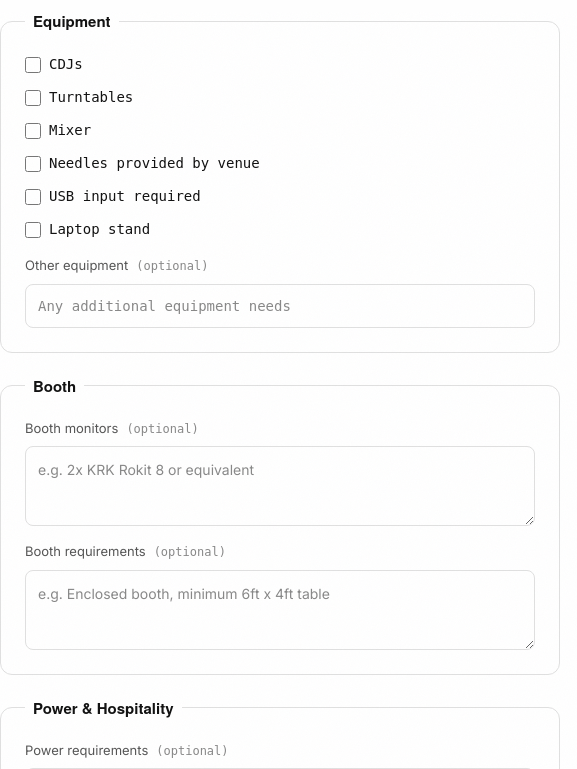
Scenario: RiderForm › shows CDJ model input when CDJs checkbox is checked
The width and height of the screenshot is (577, 769).
Expected: the field labelled "CDJ model" is not shown
Note: Check CDJs
Click the checkbox labelled "CDJs" at [33, 64], box left=25, top=56, right=41, bottom=72
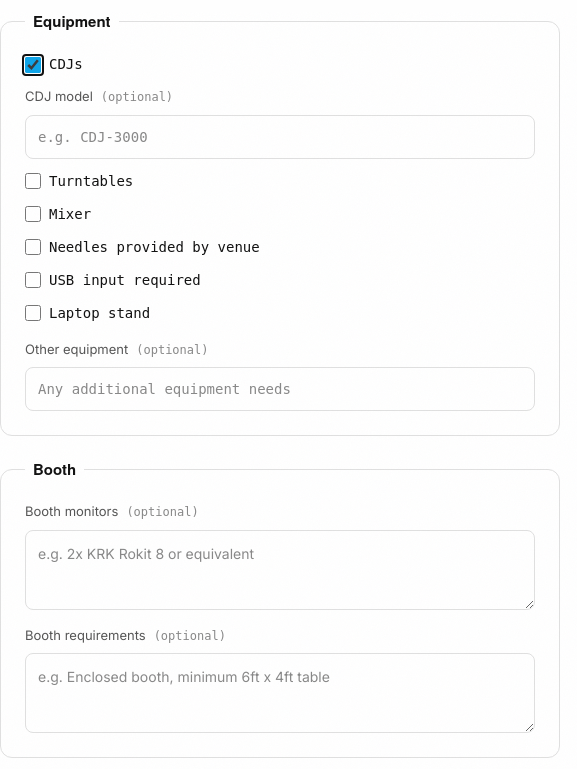
Result: the field labelled "CDJ model (optional)" is shown at left=25, top=114, right=535, bottom=158
